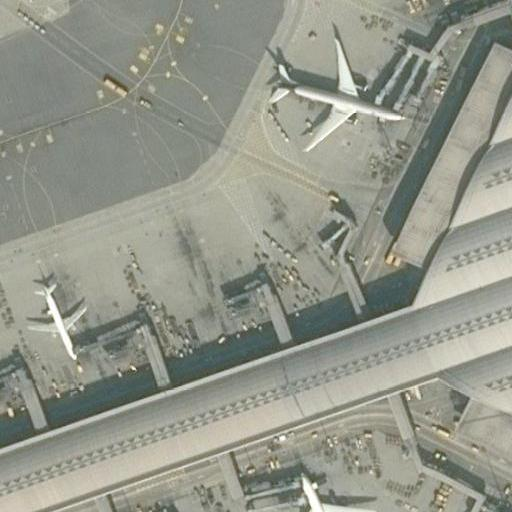Aircraft: (258, 22, 411, 156), (19, 271, 96, 363), (277, 467, 384, 512), (132, 507, 247, 512)
